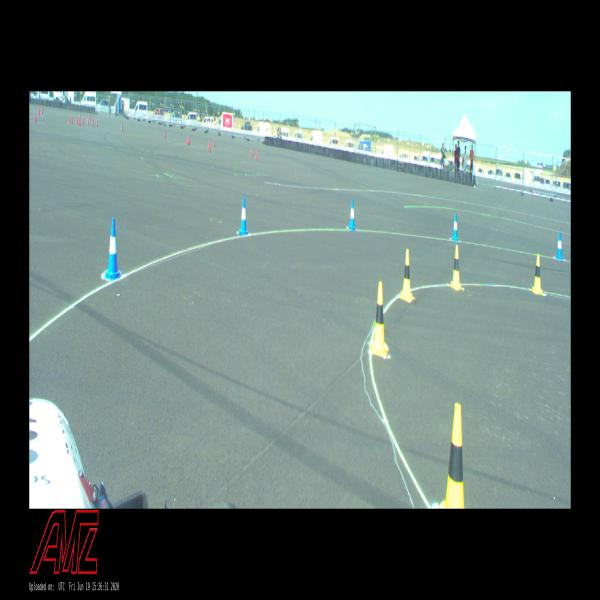blue_cone: (105, 218, 121, 279), (238, 197, 248, 236), (349, 199, 355, 230), (452, 214, 458, 241), (556, 233, 562, 259)
unknown_cone: (78, 118, 81, 126), (95, 119, 98, 126), (210, 142, 212, 152), (256, 150, 258, 160), (251, 148, 253, 157), (121, 124, 123, 132), (82, 116, 84, 124), (71, 116, 73, 123), (87, 118, 89, 125), (38, 110, 40, 116), (41, 109, 43, 115), (68, 116, 70, 122), (92, 119, 94, 125), (35, 113, 36, 122), (165, 130, 166, 138), (187, 136, 188, 144), (189, 136, 190, 144), (208, 141, 209, 149), (214, 138, 215, 146), (77, 117, 78, 124), (43, 104, 44, 110), (90, 116, 91, 122), (38, 107, 39, 112), (89, 114, 90, 119), (80, 112, 80, 117)
yellow_cone: (439, 402, 472, 508), (371, 281, 387, 356), (400, 249, 413, 301), (451, 245, 462, 289), (532, 254, 543, 294)
